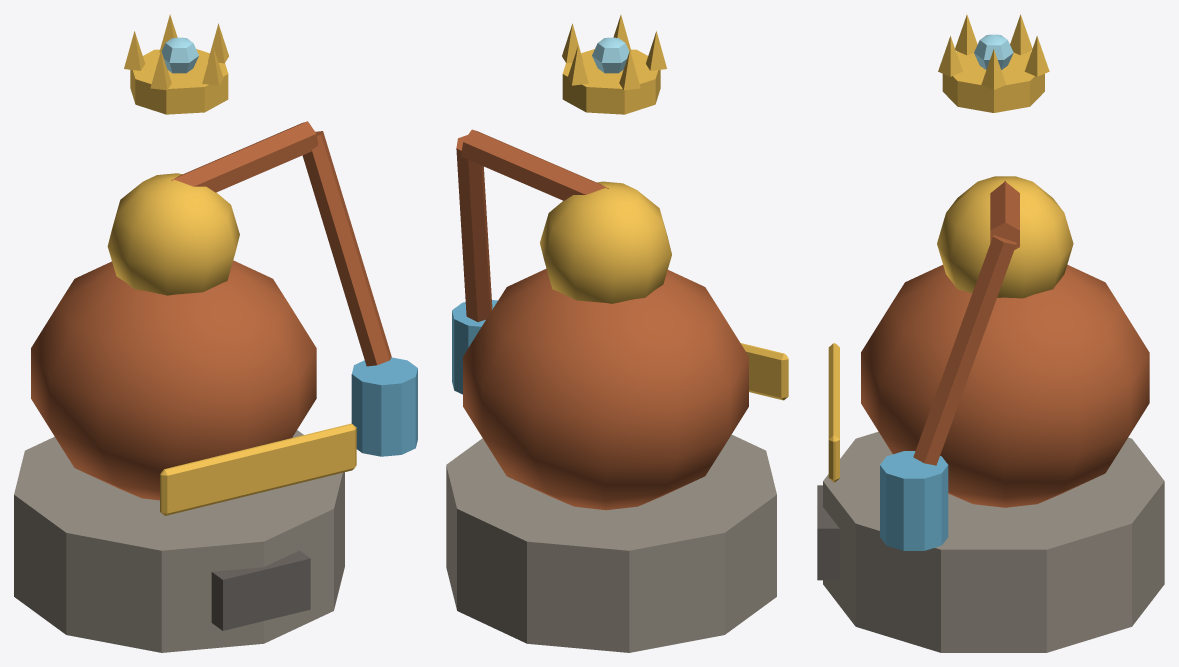
The model's file is PR_Station_Likor_T3.fbx.
3 renders of one model, left to right at view 1: azimuth 30°, elevation 25°; view 2: azimuth 150°, elevation 25°; view 3: azimuth 270°, elevation 25°, orthographic.
Parts seen in each view (by area): view 1: PR_Station_Likor_T3; view 2: PR_Station_Likor_T3; view 3: PR_Station_Likor_T3.
Part boxes in pixels (x1,y1,x2,y2): PR_Station_Likor_T3: (14, 14, 417, 652); PR_Station_Likor_T3: (446, 15, 788, 652); PR_Station_Likor_T3: (817, 14, 1164, 652).
Size of the model in its own units: 0.6824 by 1.07 by 0.61.
